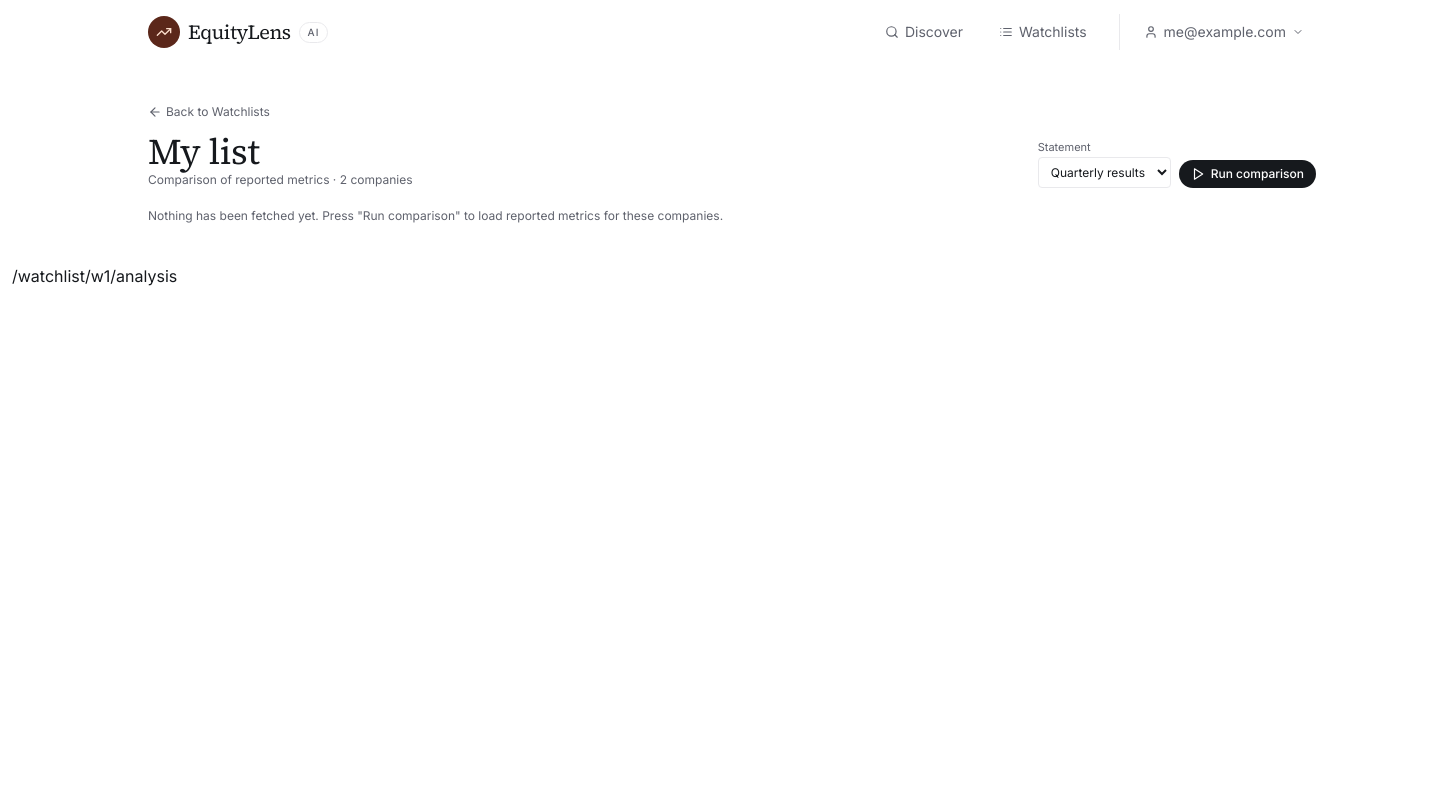
Test case: watchlist comparison › statement selector is sent to the backend; badges, reason, basis note and notice render
Step 1. Select "Profit & loss" in the dropdown labelled "Statement" → (1104, 172), box [1038,157,1171,188]
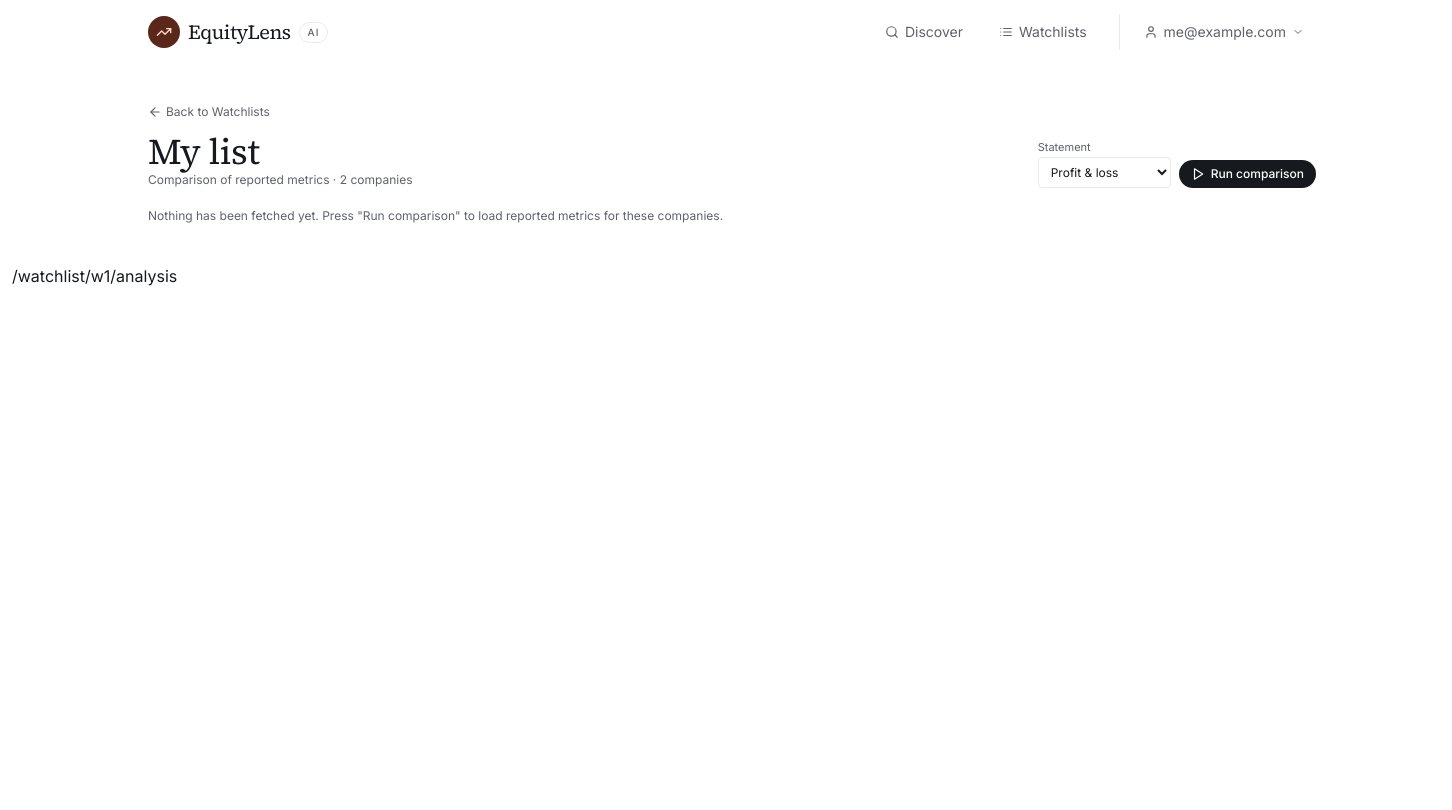
Step 2. Click the button "Run comparison" → (1247, 174), box [1179,160,1316,188]
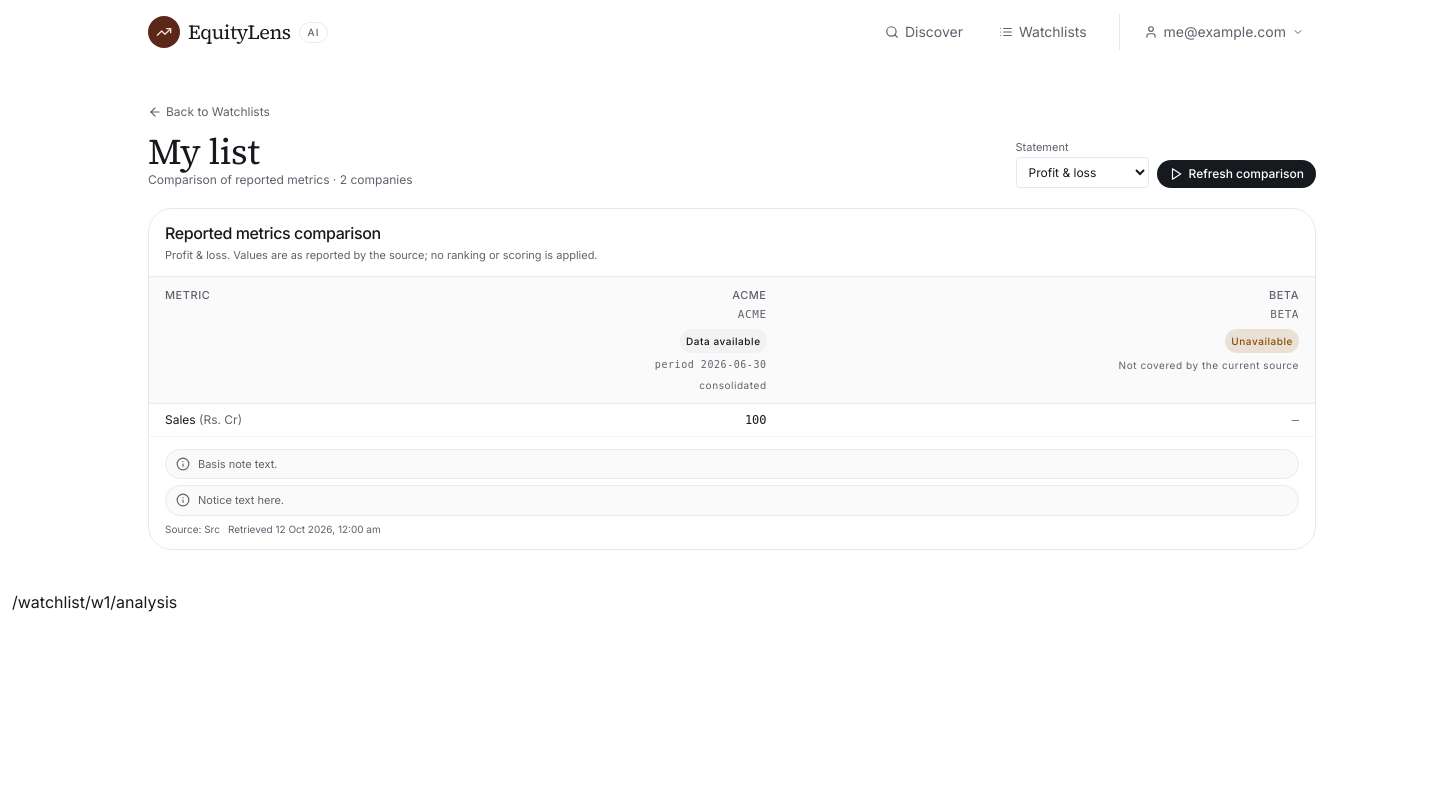
Expected: the text "Basis note text." is shown, [198,456,278,472]
Expected: the text with test id "status-c-1" reads "Data available", [686,334,761,346]
Expected: the text with test id "status-c-2" reads "Unavailable", [1231,334,1293,346]
